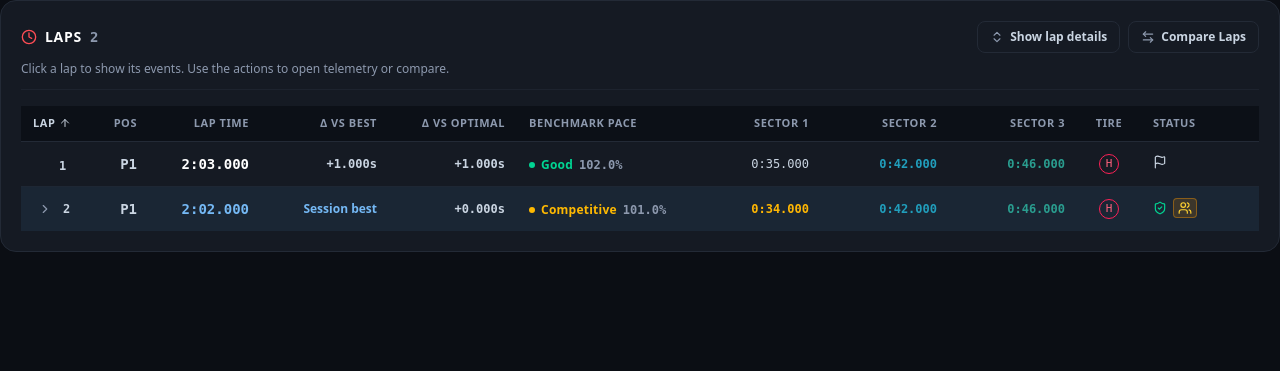
Scenario: SessionLapTable traffic › shows who the driver met on track, and why a lap is left out of the pace
The image size is (1280, 371).
Click the button named "Show what happened on lap 2" at (45, 209), box 33,197 -> 57,221
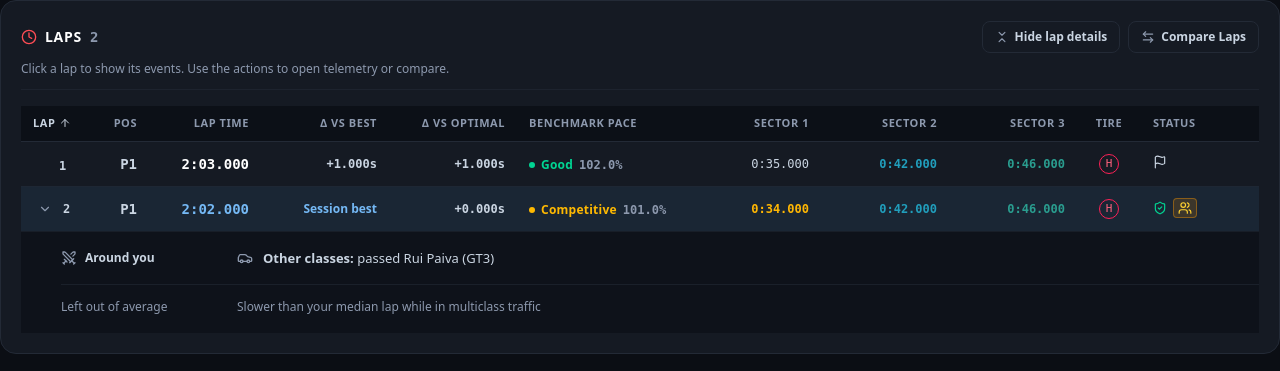
expect the row with test id "lap-details-2" does not show "start of the lap": met, box 21,231 -> 1259,333
expect the row with test id "lap-details-2" shows "Left out of average": met, box 61,298 -> 168,315
Click the button named "Hide what happened on lap 2" at (45, 209), box 33,197 -> 57,221
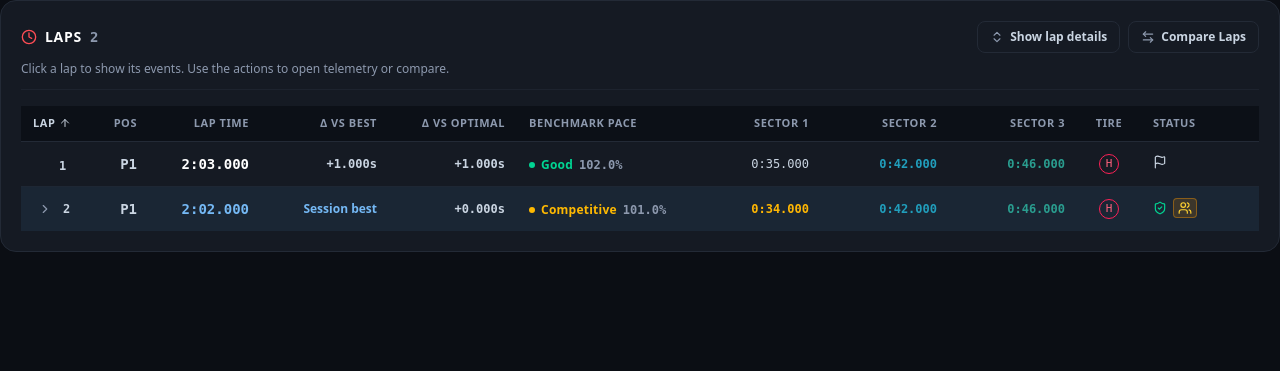
expect the row with test id "lap-details-2" is gone: met
Click the button "Show lap details" at (1049, 37), box 977,21 -> 1120,53
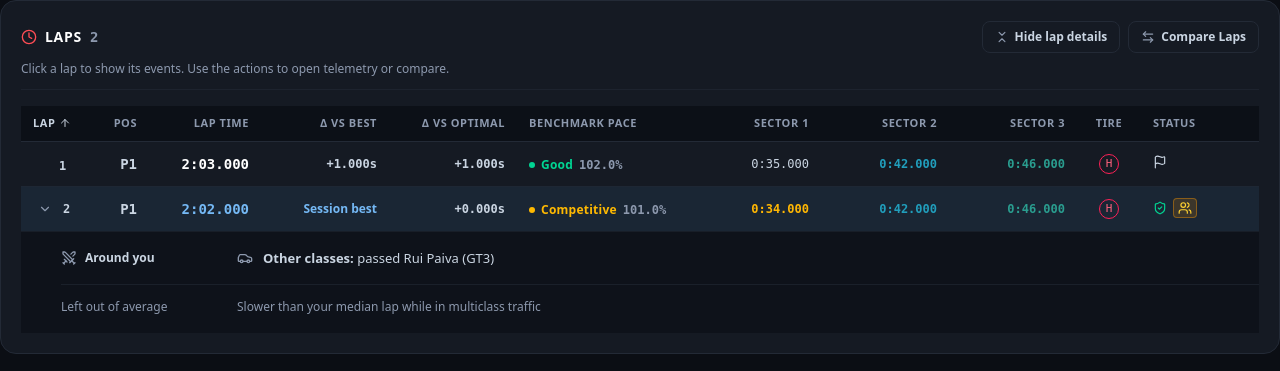
expect the row with test id "lap-details-2" is shown: met, box 21,231 -> 1259,333
expect the button "Hide lap details" is shown: met, box 982,21 -> 1120,53
